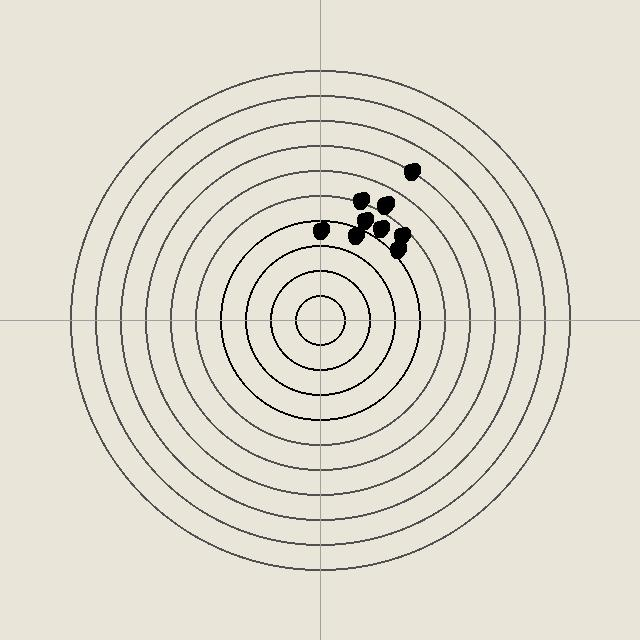good_group: (354, 210, 374, 230), (374, 195, 394, 215), (310, 220, 330, 240), (387, 239, 407, 259), (401, 161, 421, 181), (370, 218, 390, 238), (391, 225, 411, 245), (375, 194, 395, 214), (350, 190, 370, 210), (345, 225, 365, 245)
